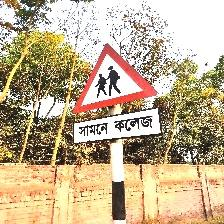College-in-front: (70, 20, 177, 148)
